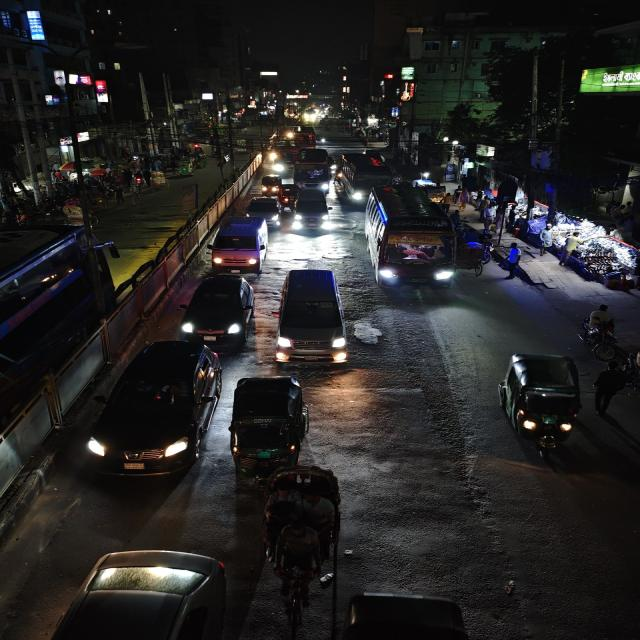bicycle: (126, 186, 144, 209)
bus: (0, 222, 116, 474), (363, 186, 459, 296), (337, 153, 394, 203), (292, 148, 336, 192)
car: (32, 546, 244, 640), (89, 337, 223, 480), (274, 264, 352, 368), (178, 272, 260, 344), (205, 215, 271, 270), (291, 186, 332, 234), (242, 196, 282, 224)
cng: (496, 348, 585, 458), (226, 373, 316, 476), (258, 174, 283, 196), (280, 183, 298, 208), (176, 162, 196, 176)
motorcycle: (577, 314, 618, 358)
pedestrian: (591, 359, 628, 415), (504, 241, 526, 277)
rickshaw: (258, 462, 347, 614), (226, 373, 317, 475), (461, 237, 485, 280), (150, 171, 171, 191)
